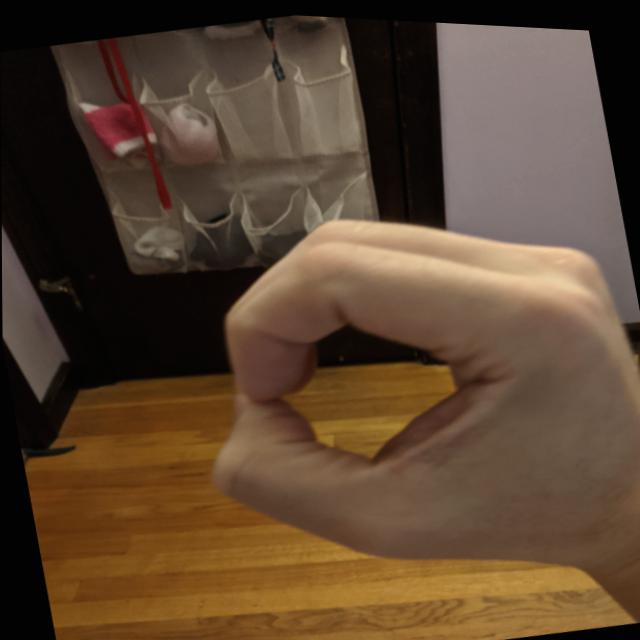O: (157, 152, 639, 627)
